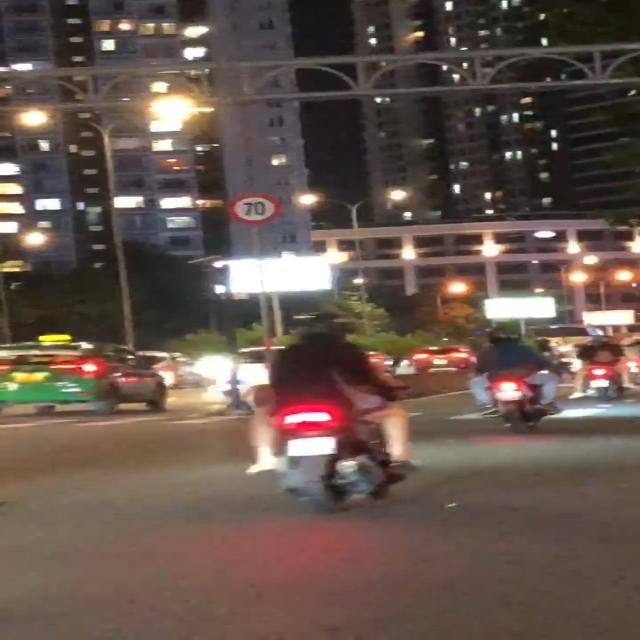Bien bao toc do toi da cho phep: (227, 191, 286, 226)
